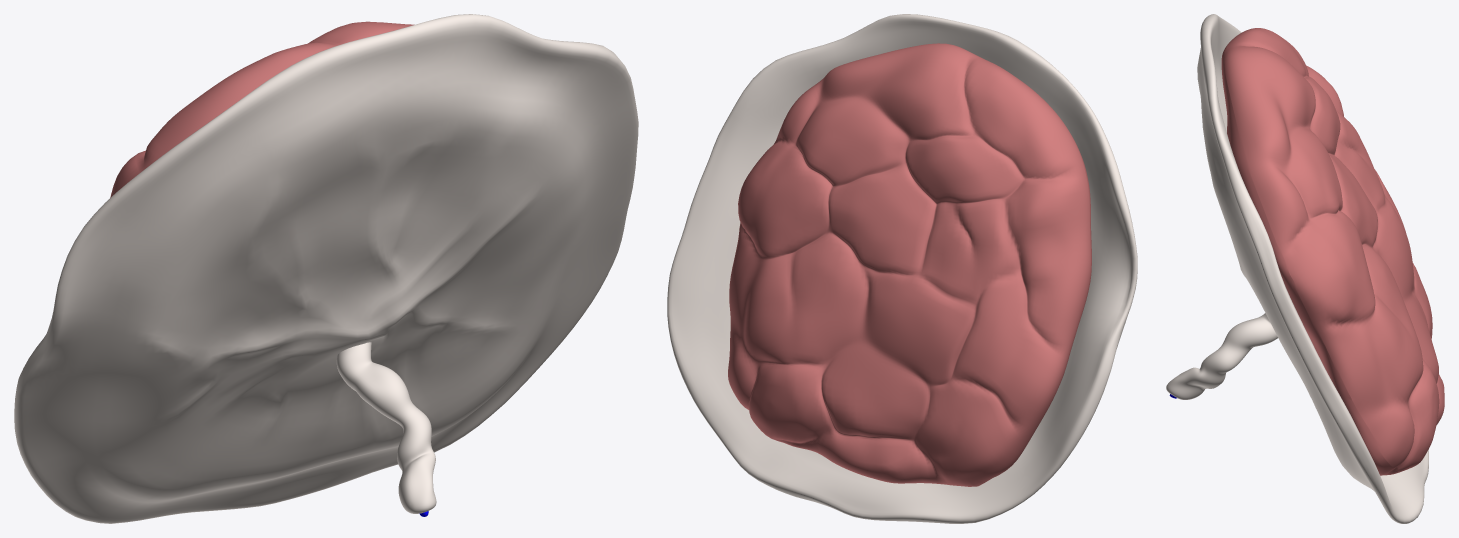
The model's file is placenta.glb.
The picture shows the model from 3 angles, left to right: view 1: azimuth 30°, elevation 25°; view 2: azimuth 150°, elevation 25°; view 3: azimuth 270°, elevation 25°; orthographic projection. The views are drawn at different scales.
Parts seen in each view (by area): view 1: VH_F_amnion, VH_F_basal_plate, VH_F_umbilical_cord; view 2: VH_F_basal_plate, VH_F_amnion; view 3: VH_F_basal_plate, VH_F_amnion, VH_F_chorionic_plate, VH_F_umbilical_cord.
Part boxes in pixels (x1,y1,x2,y2): VH_F_amnion: [14, 14, 638, 523]; VH_F_basal_plate: [110, 21, 414, 197]; VH_F_umbilical_cord: [336, 342, 436, 513]; VH_F_basal_plate: [728, 43, 1090, 486]; VH_F_amnion: [667, 14, 1137, 523]; VH_F_basal_plate: [1224, 28, 1444, 471]; VH_F_amnion: [1197, 14, 1428, 523]; VH_F_chorionic_plate: [1221, 46, 1400, 475]; VH_F_umbilical_cord: [1166, 313, 1277, 399].
Bounding box in the file's own units: 0.2509 × 0.2305 × 0.1338.
